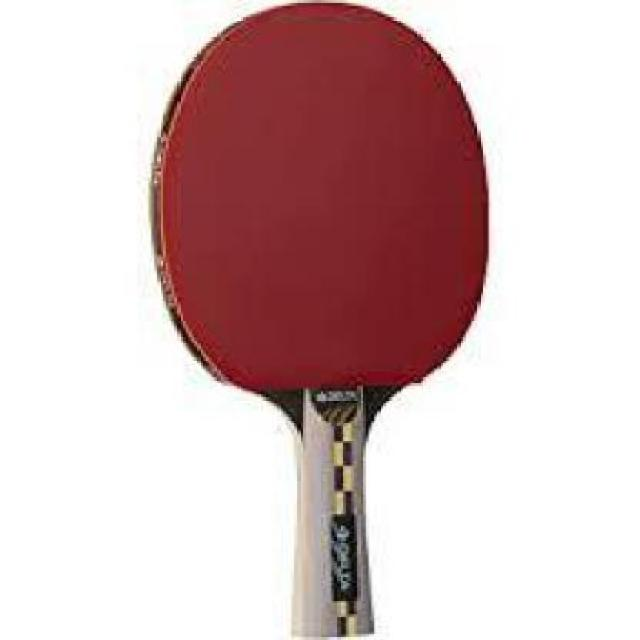table_tennis_racket: (149, 0, 493, 429)
